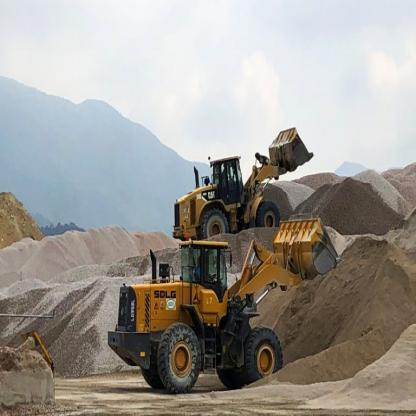bull_dozer/loader/grader: (100, 206, 352, 404), (163, 115, 320, 239)
